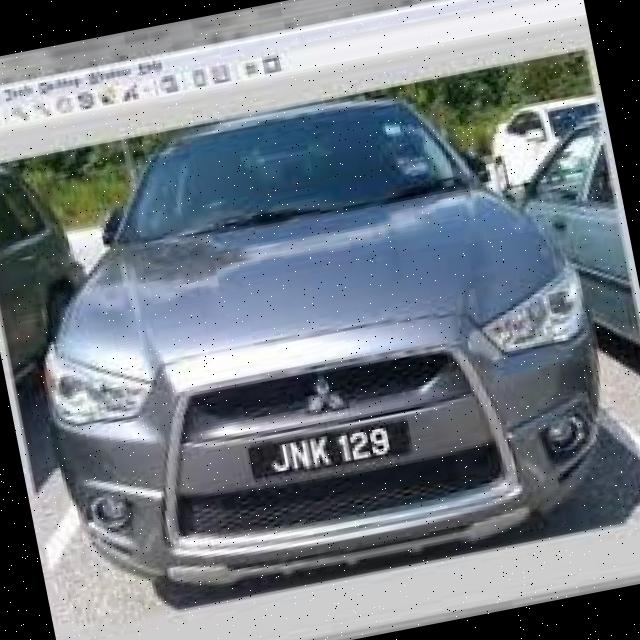License_Plate: (238, 405, 423, 502)
car: (26, 57, 640, 640)
